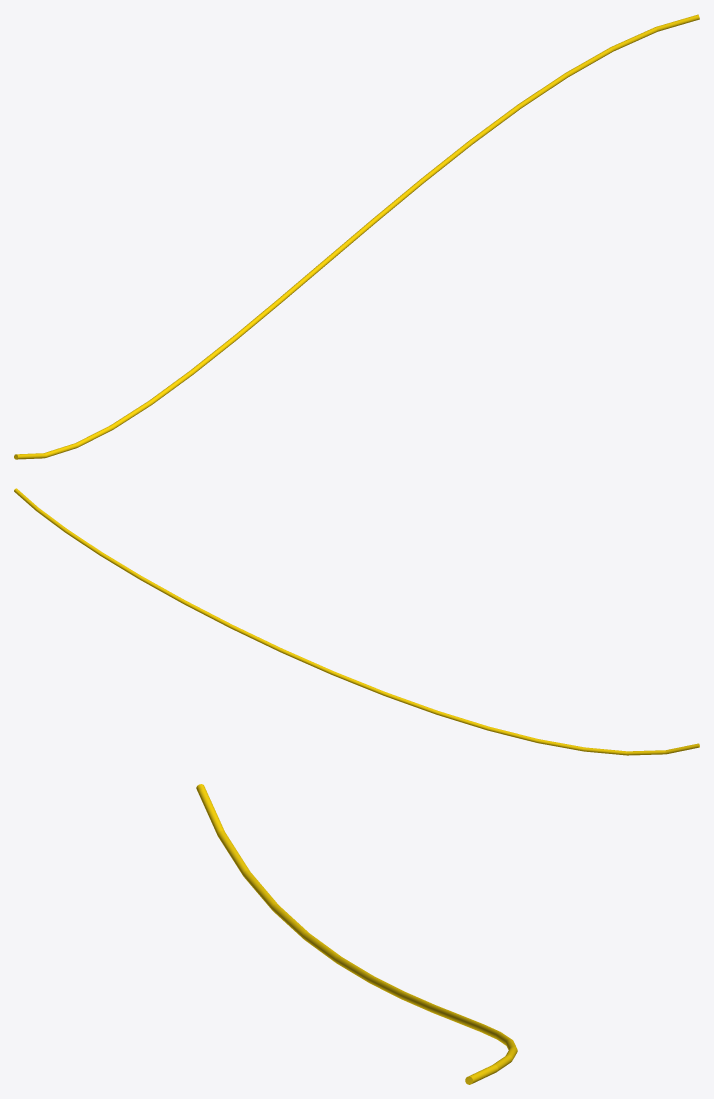
Rendered from Event_421127236_track_30.fbx.
3 views of the same model, one above another, from view 1: azimuth 30°, elevation 25°; view 2: azimuth 150°, elevation 25°; view 3: azimuth 270°, elevation 25° (orthographic). The views are drawn at different scales.
Visible parts, largest first — view 1: Model; view 2: Model; view 3: Model.
Boxes of the visible parts, x1,y1,x2,y2 form: Model: [14, 14, 699, 459]; Model: [14, 488, 699, 755]; Model: [196, 784, 517, 1084].
Size of the model in its own units: 6.73 by 1.79 by 1.52.
